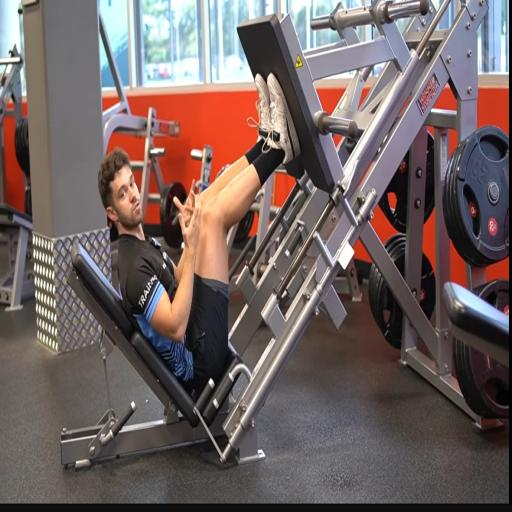Leg Press: (88, 20, 364, 447)
